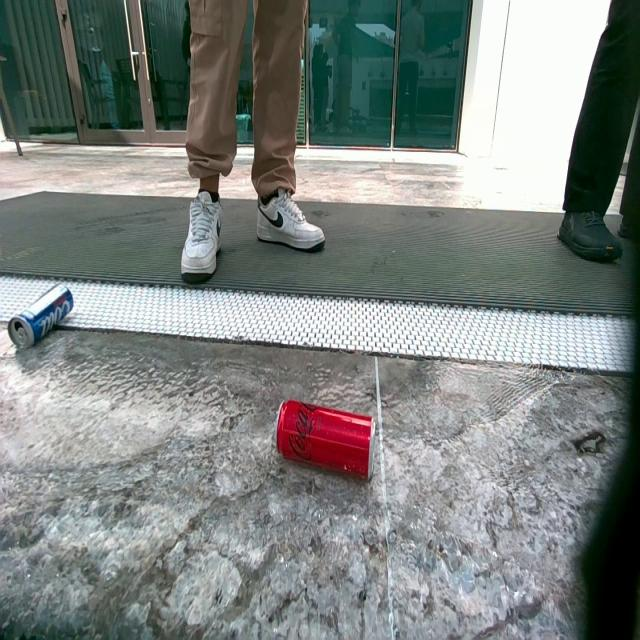Cans: (273, 398, 373, 485), (8, 281, 76, 351)
